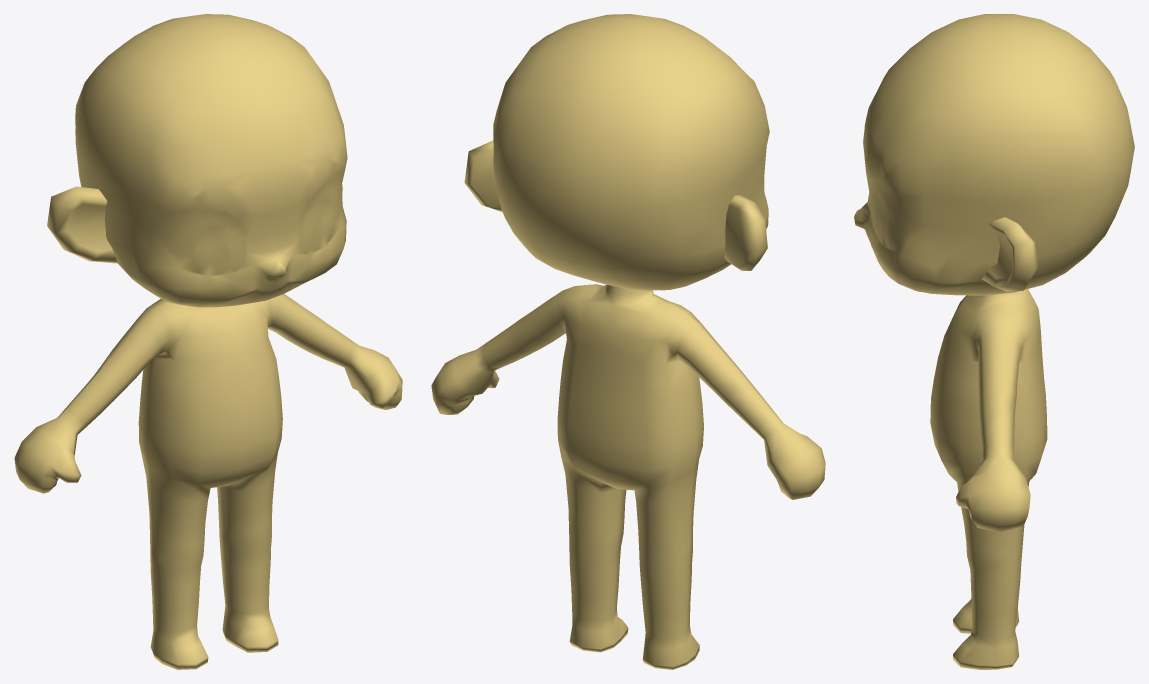
The model's file is default naked.fbx.
3 renders of one model, left to right at view 1: azimuth 30°, elevation 25°; view 2: azimuth 150°, elevation 25°; view 3: azimuth 270°, elevation 25°, orthographic.
Parts seen in each view (by area): view 1: Body_4; view 2: Body_4; view 3: Body_4.
Boxes of the visible parts, x1,y1,x2,y2 form: Body_4: (14,14,402,669); Body_4: (431,14,825,669); Body_4: (854,14,1134,669).
Bounding box in the file's own units: 107 × 166 × 68.58.
